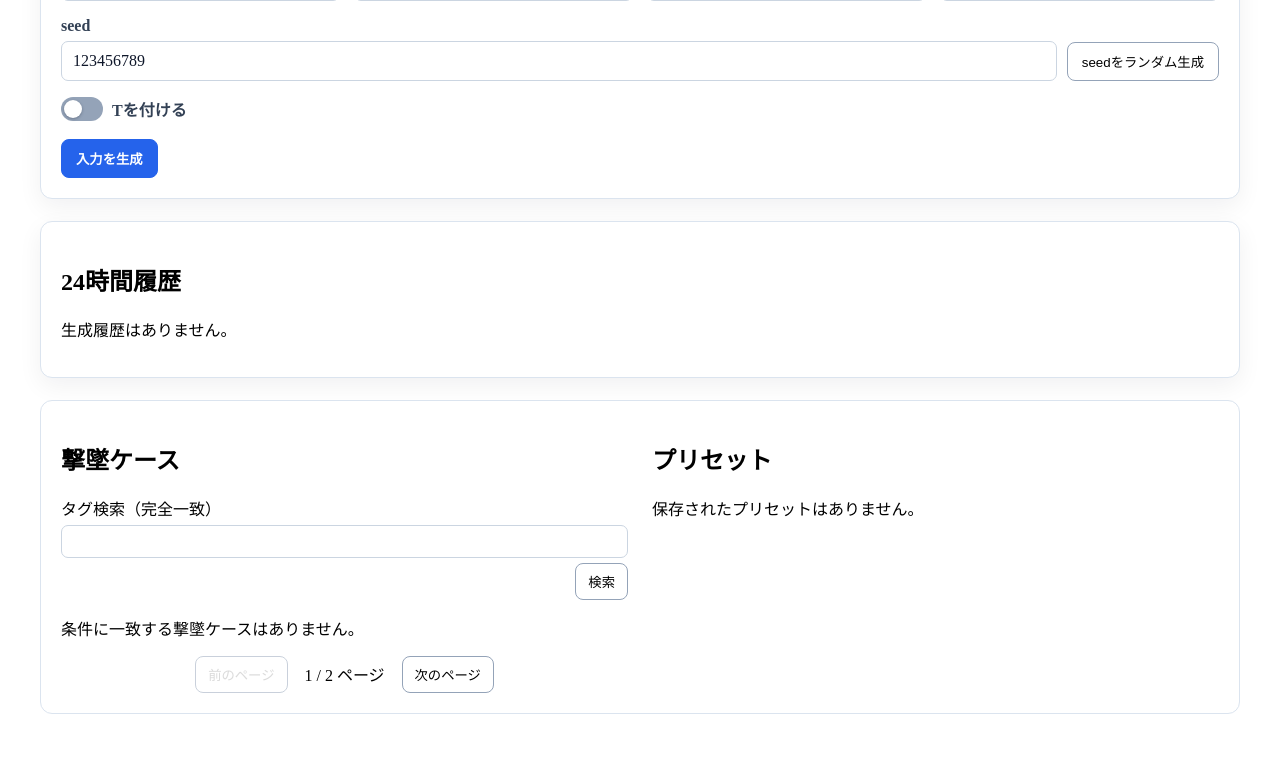
Test: locks killed-case filtering and paging until the requested tag is applied
(page scrolled)
Expected: the button "次のページ" is enabled, [402,656,494,693]
Type "boundary" into the field labelled "タグ検索（完全一致）".
click(344, 541); type("boundary")  # box [61,525,628,558]
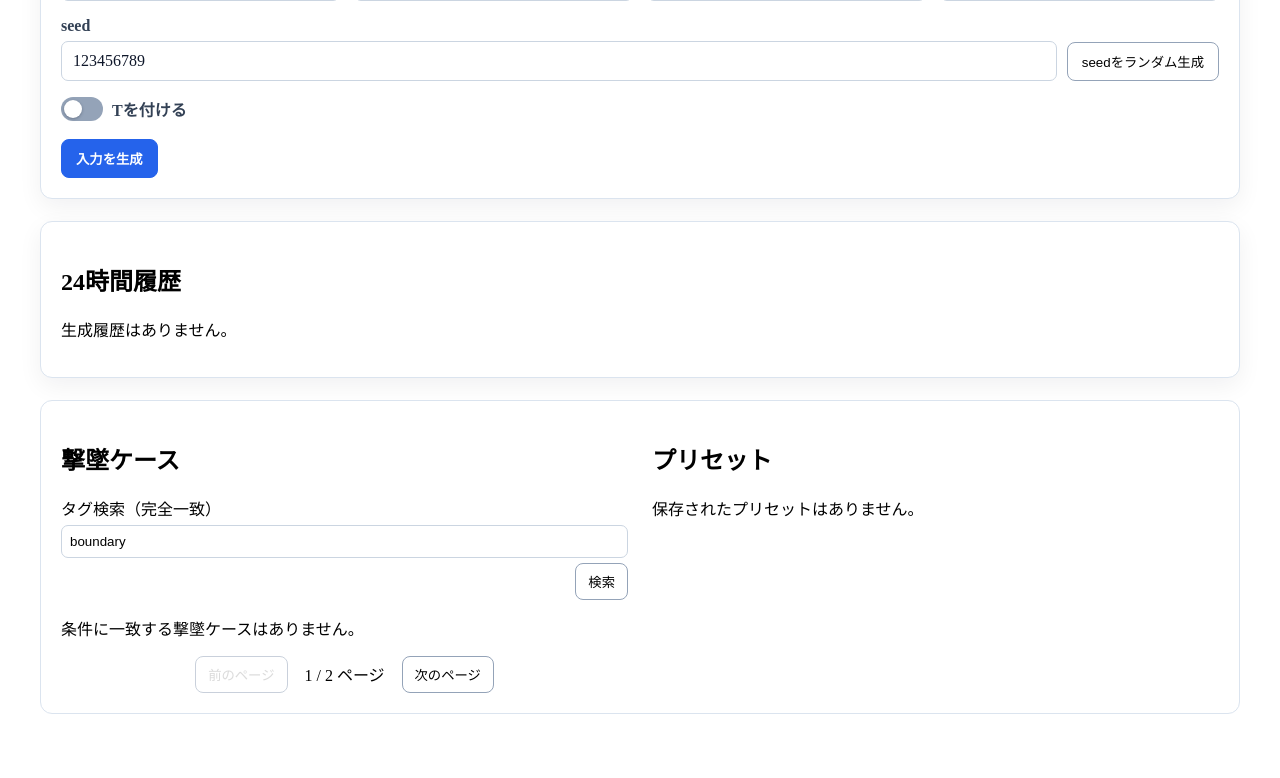
Click the button "検索".
click(602, 581)  # box [575,563,628,600]
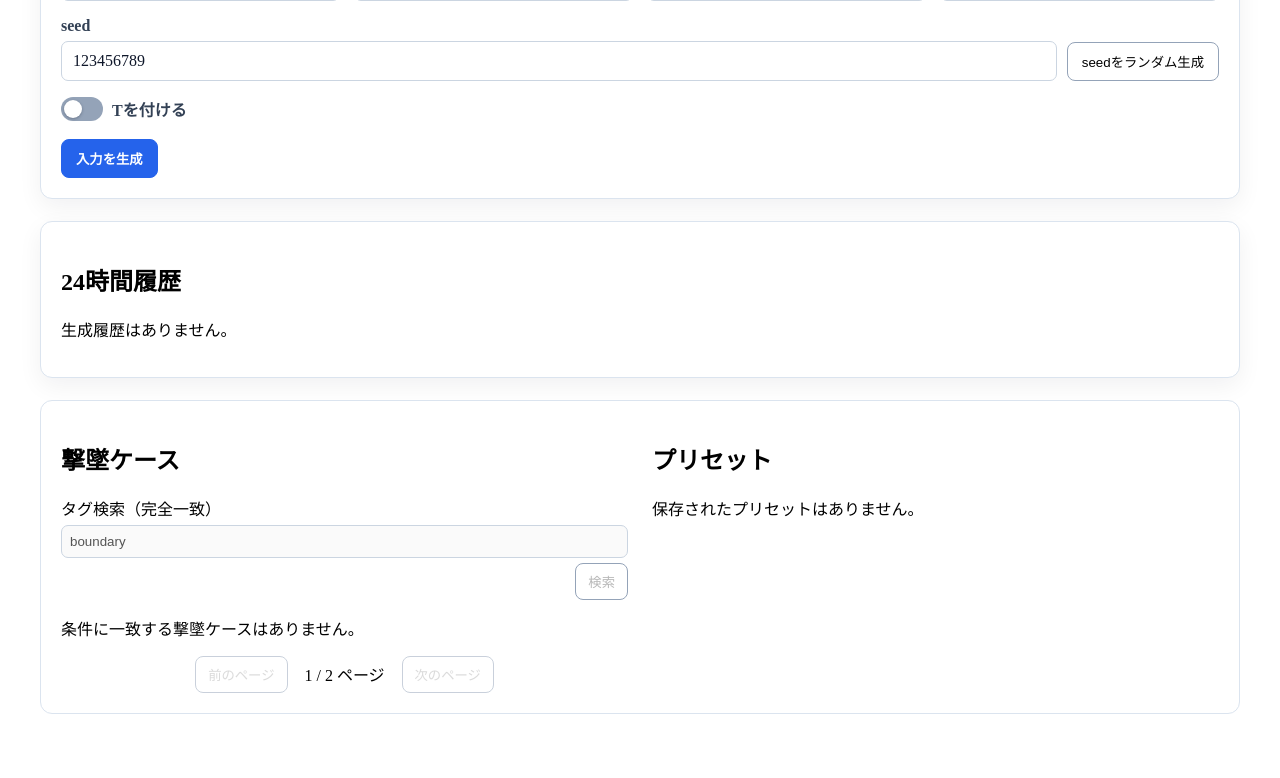
Result: the field labelled "タグ検索（完全一致）" is disabled at [61,525,628,558]
Result: the button "検索" is disabled at [575,563,628,600]
Result: the button "次のページ" is disabled
Click the button "次のページ".
click(448, 674)  # box [402,656,494,693]
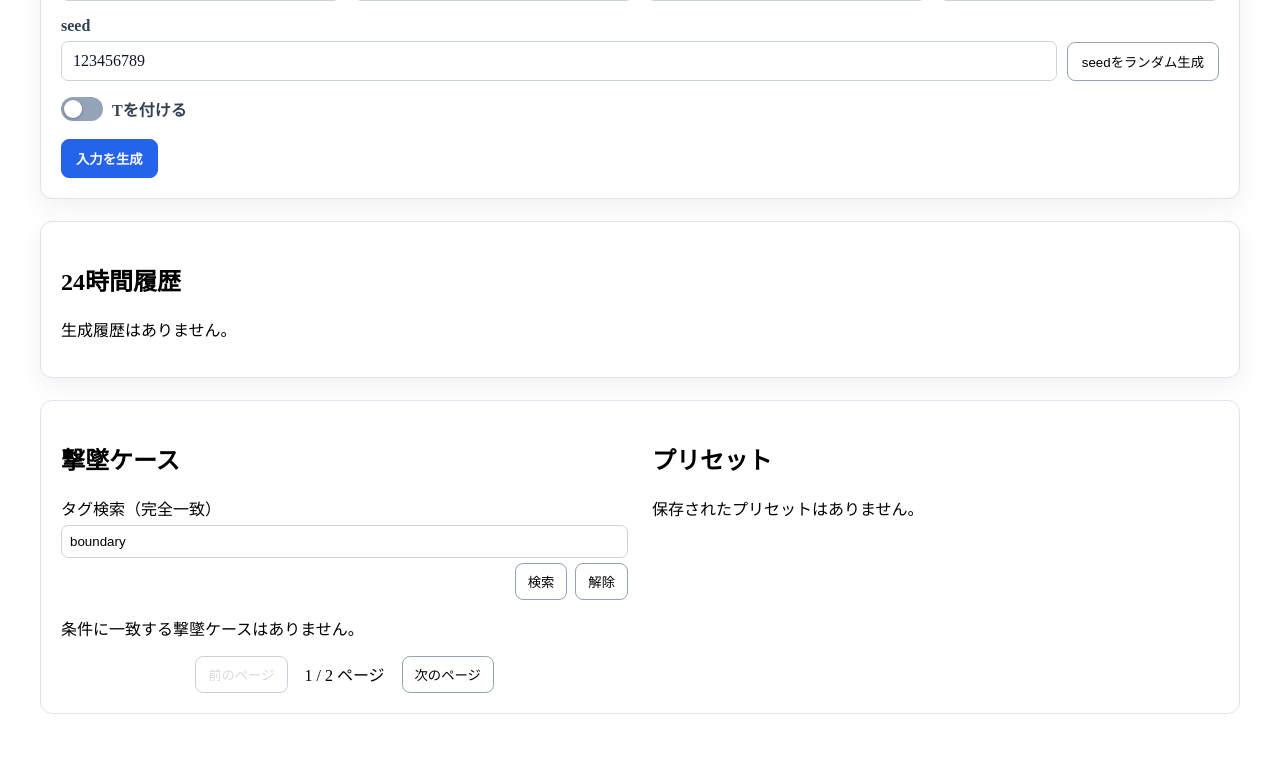
Result: the field labelled "タグ検索（完全一致）" is enabled at [61,525,628,558]
